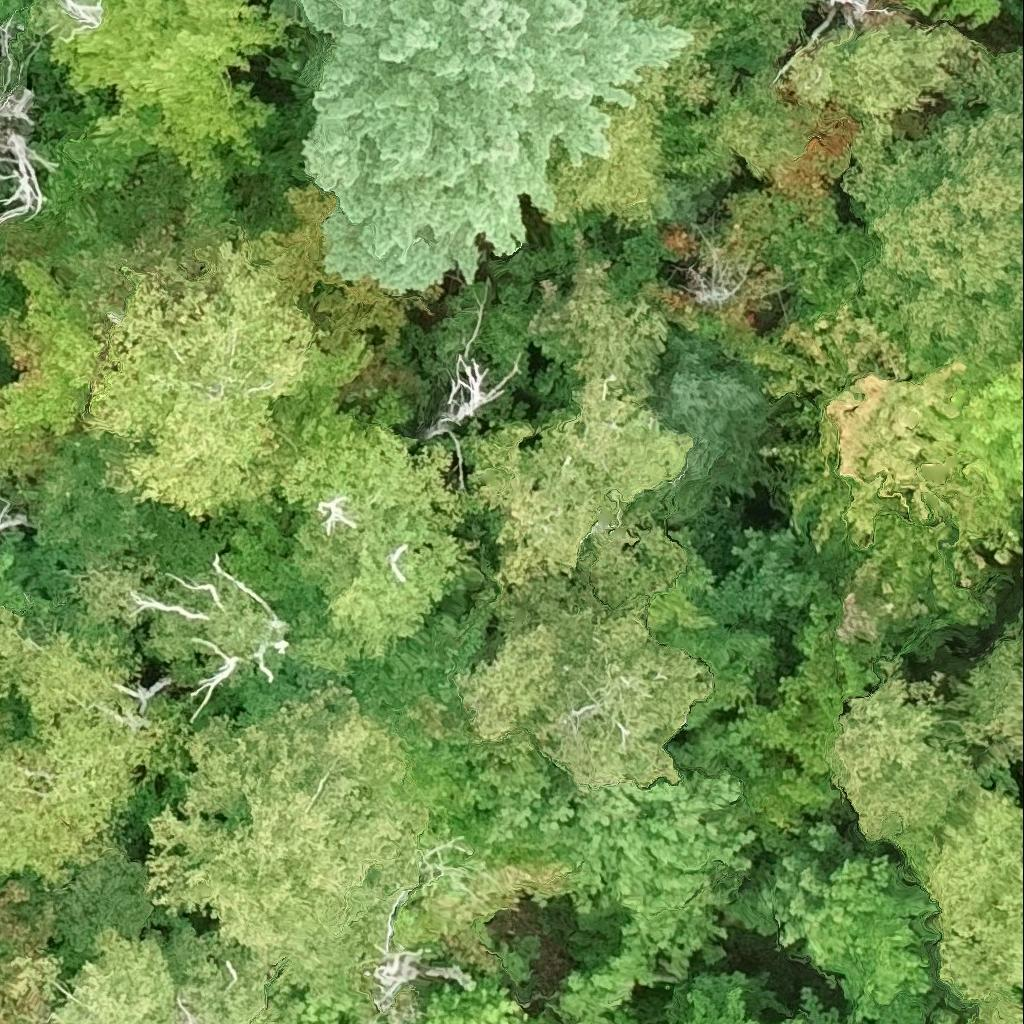crown: (305, 0, 685, 293), (735, 317, 1023, 649), (460, 730, 758, 1023), (146, 686, 432, 981), (87, 230, 373, 522), (467, 247, 697, 594), (835, 51, 1023, 376), (263, 394, 491, 659), (645, 564, 846, 861), (49, 0, 302, 195), (460, 611, 713, 796), (729, 821, 940, 1023), (61, 548, 367, 686), (0, 601, 193, 813), (391, 737, 572, 950), (885, 763, 1023, 1023), (829, 657, 1001, 840), (727, 526, 907, 699), (542, 44, 711, 222), (769, 16, 995, 149), (496, 513, 700, 644), (0, 264, 124, 471), (642, 339, 781, 508), (0, 718, 112, 886), (49, 924, 195, 1023), (936, 611, 1023, 777), (167, 921, 273, 1023), (368, 924, 475, 1023), (0, 887, 71, 1023), (250, 960, 392, 1023), (626, 974, 801, 1023), (419, 347, 503, 448), (0, 89, 56, 224), (421, 974, 559, 1023), (664, 180, 715, 226), (907, 0, 997, 26), (810, 0, 879, 20), (0, 505, 38, 540), (0, 676, 9, 702)
